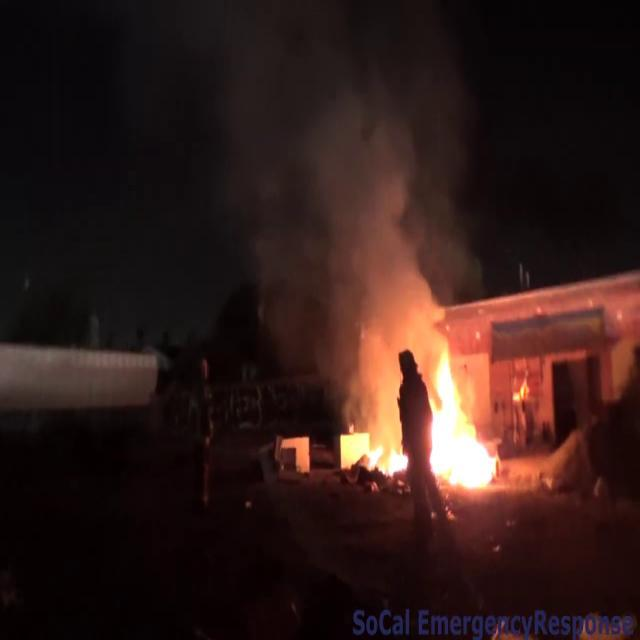Fire: (424, 338, 504, 492)
Smoke: (188, 1, 488, 376)
